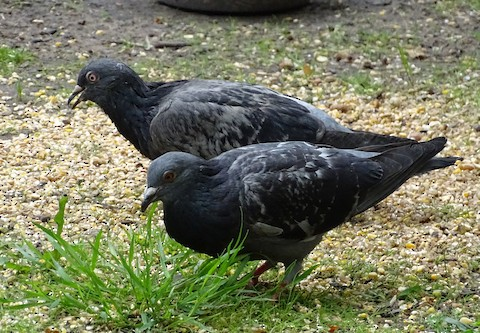pigeon: (65, 50, 454, 217), (133, 127, 449, 302)
